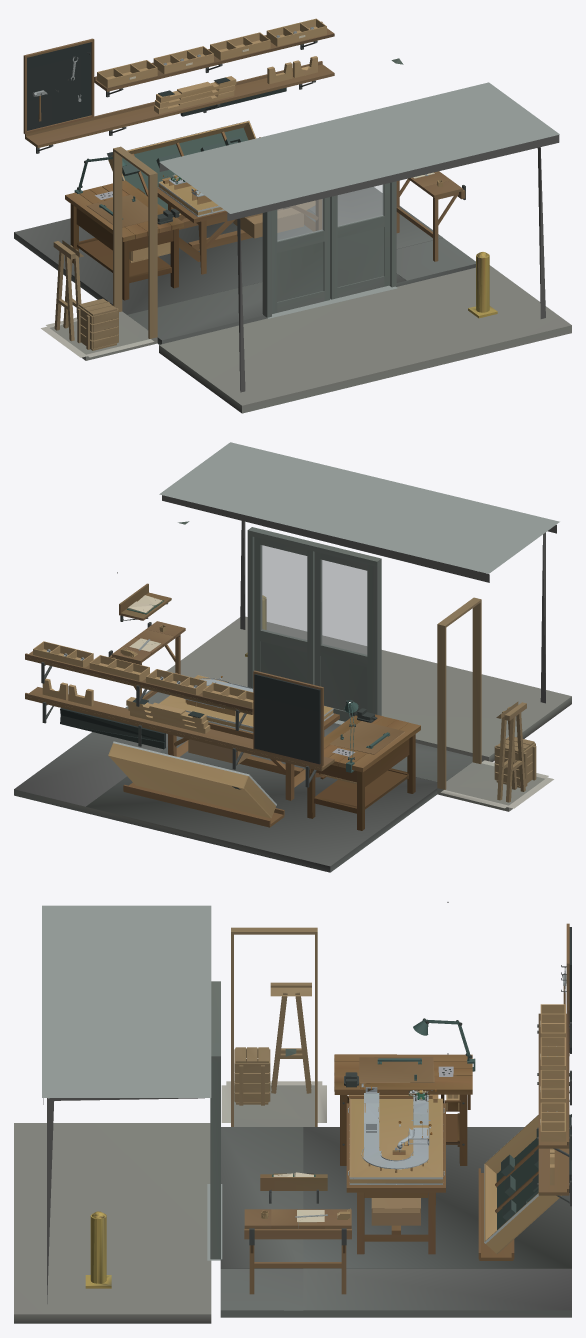
The model's file is mini.glb.
3 views of the same model, one above another, from view 1: azimuth 30°, elevation 25°; view 2: azimuth 150°, elevation 25°; view 3: azimuth 270°, elevation 25° (orthographic). The views are drawn at different scales.
Parts seen in each view (by area): view 1: cord/main_over_pulleys, part/architecture_floor/slab, part/architecture_loading/glazing_left, part/repair_room_environment/lid_felt_lining, part/repair_room_environment/case_clear_birch_deck, part/repair_room_environment/lid_fitted_blocks_and_obsolete_; view 2: cord/main_over_pulleys, part/architecture_floor/slab, part/architecture_loading/glazing_left, part/repair_room_environment/case_clear_birch_deck; view 3: cord/main_over_pulleys, part/architecture_floor/slab, part/repair_room_environment/case_clear_birch_deck, part/repair_room_environment/lid_felt_lining, part/repair_room_environment/case_plywood_shell, part/repair_room_environment/lid_fitted_blocks_and_obsolete_.
Part boxes in pixels (<box>): cord/main_over_pulleys: <box>27,18,571,413</box>; part/architecture_floor/slab: <box>14,21,497,344</box>; part/architecture_loading/glazing_left: <box>277,184,383,241</box>; part/repair_room_environment/lid_felt_lining: <box>122,127,248,213</box>; part/repair_room_environment/case_clear_birch_deck: <box>108,121,255,218</box>; part/repair_room_environment/lid_fitted_blocks_and_obsolete_: <box>122,136,242,176</box>; cord/main_over_pulleys: <box>33,442,571,827</box>; part/architecture_floor/slab: <box>14,527,472,872</box>; part/architecture_loading/glazing_left: <box>261,545,367,655</box>; part/repair_room_environment/case_clear_birch_deck: <box>108,676,331,818</box>; cord/main_over_pulleys: <box>14,902,571,1323</box>; part/architecture_floor/slab: <box>85,923,571,1317</box>; part/repair_room_environment/case_clear_birch_deck: <box>351,1099,561,1254</box>; part/repair_room_environment/lid_felt_lining: <box>496,1138,538,1229</box>; part/repair_room_environment/case_plywood_shell: <box>349,1098,442,1183</box>; part/repair_room_environment/lid_fitted_blocks_and_obsolete_: <box>501,1129,538,1220</box>.
Bounding box in the file's own units: 5.33 × 2.55 × 5.4.
Materials: 11 (11 with a texture image).
